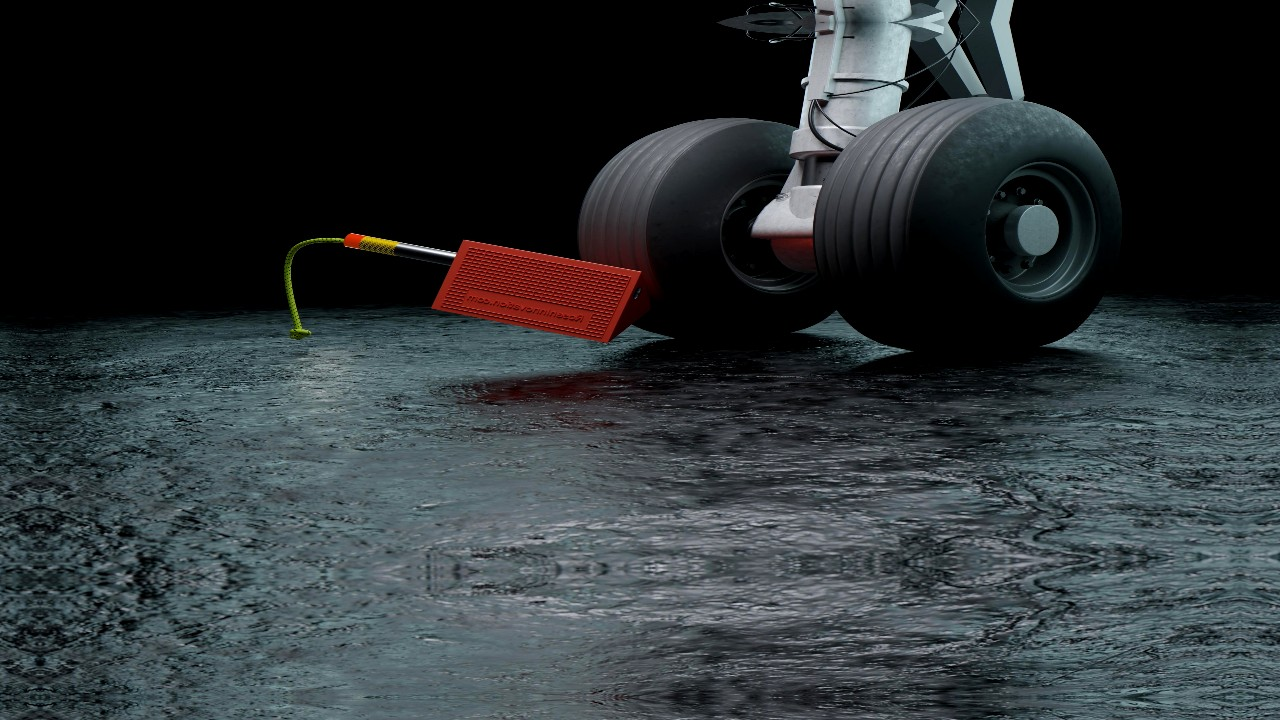chock: (426, 233, 659, 349)
wheel: (811, 92, 1131, 359), (575, 112, 849, 344)
